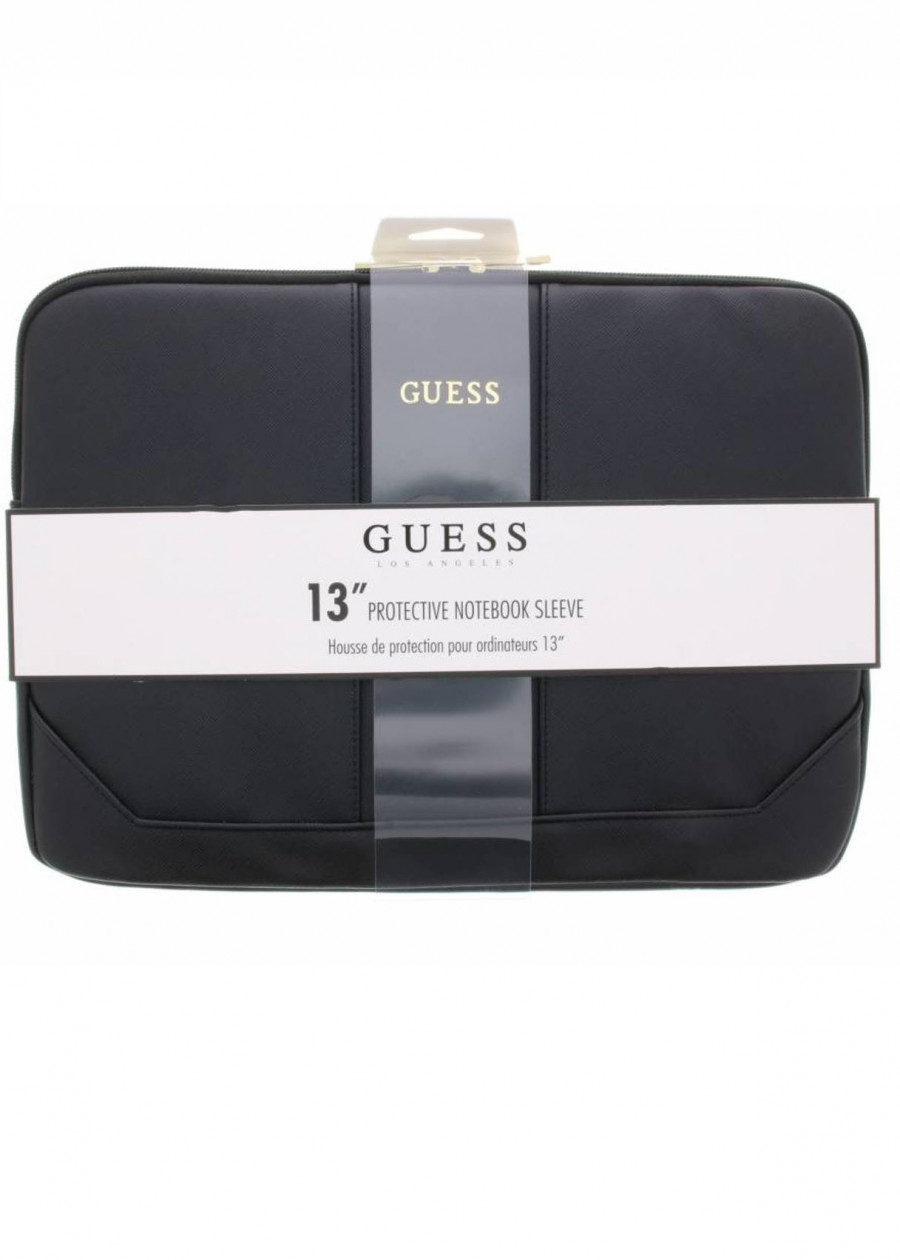Guess: (356, 511, 533, 555), (387, 370, 509, 414)
